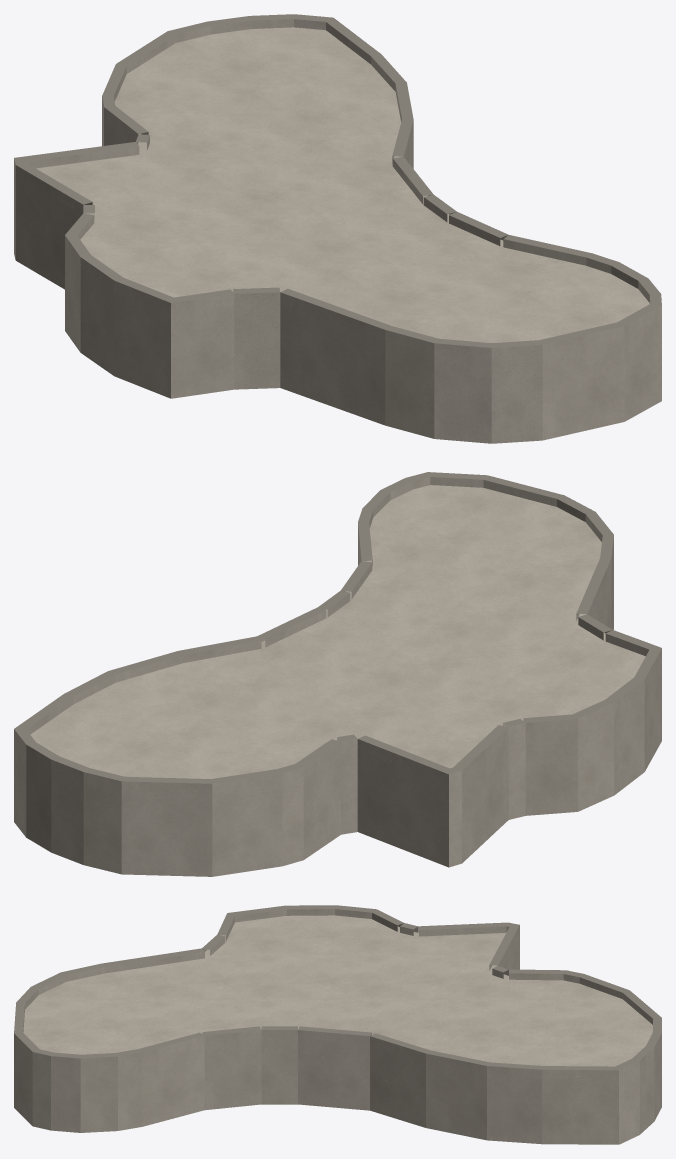
The picture shows the model from 3 angles, top to bottom: view 1: azimuth 30°, elevation 25°; view 2: azimuth 150°, elevation 25°; view 3: azimuth 270°, elevation 25°; orthographic projection. The views are drawn at different scales.
Parts seen in each view (by area): view 1: B-w1220988670_cubierta, B-w1220988670_muros, B-w1220988670_lejos; view 2: B-w1220988670_cubierta, B-w1220988670_lejos, B-w1220988670_muros; view 3: B-w1220988670_cubierta, B-w1220988670_lejos, B-w1220988670_muros.
Part boxes in pixels (box(x1,y1,x2,y2)): B-w1220988670_cubierta: box(14, 14, 661, 347); B-w1220988670_muros: box(14, 14, 661, 443); B-w1220988670_lejos: box(14, 105, 661, 439); B-w1220988670_cubierta: box(14, 472, 661, 791); B-w1220988670_lejos: box(14, 545, 657, 876); B-w1220988670_muros: box(14, 472, 661, 876); B-w1220988670_cubierta: box(14, 905, 661, 1076); B-w1220988670_lejos: box(14, 931, 661, 1144); B-w1220988670_muros: box(14, 905, 661, 1144).
Size of the model in its own units: 10.94 by 2.3 by 18.14.
Materials: 4 (2 with a texture image).
